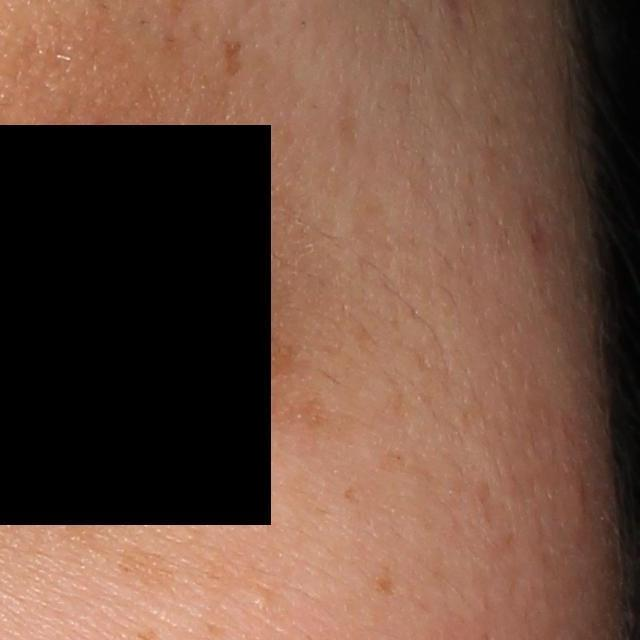comedo: (250, 589, 275, 612)
melasma: (58, 495, 183, 590), (372, 566, 394, 599), (340, 484, 359, 509)
